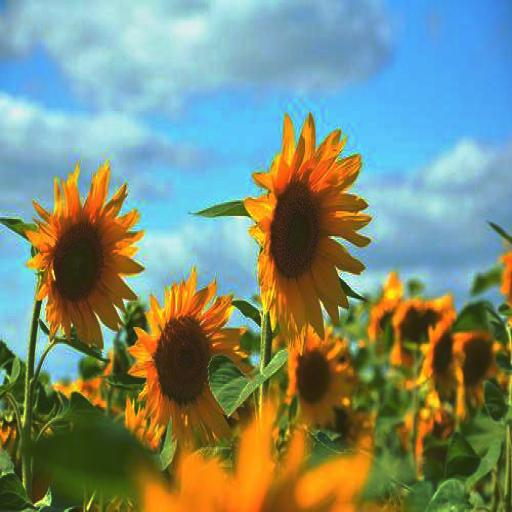sunflower: (248, 114, 368, 335), (29, 165, 145, 350), (131, 274, 251, 442), (286, 322, 356, 427), (405, 322, 462, 389), (456, 328, 496, 388)
